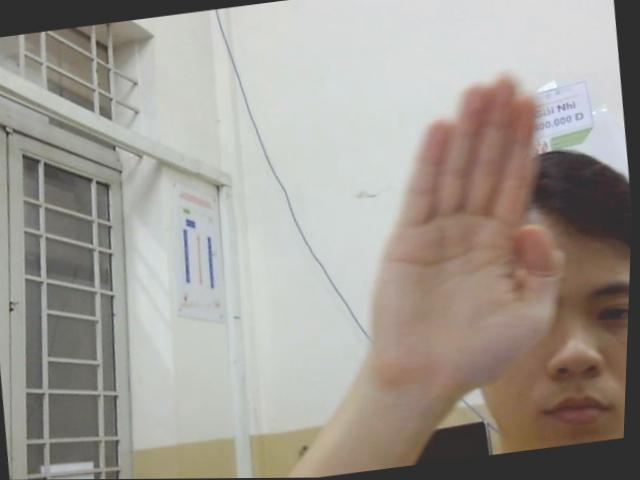B: (345, 65, 587, 389)
